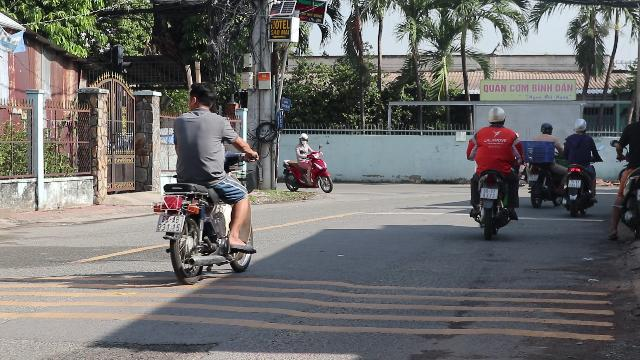helmet: (486, 106, 506, 126)
licenseplate: (156, 214, 184, 232), (480, 188, 498, 198)
motorcyclist: (153, 80, 260, 282), (464, 106, 522, 238)
nohelmet: (186, 81, 217, 111)
